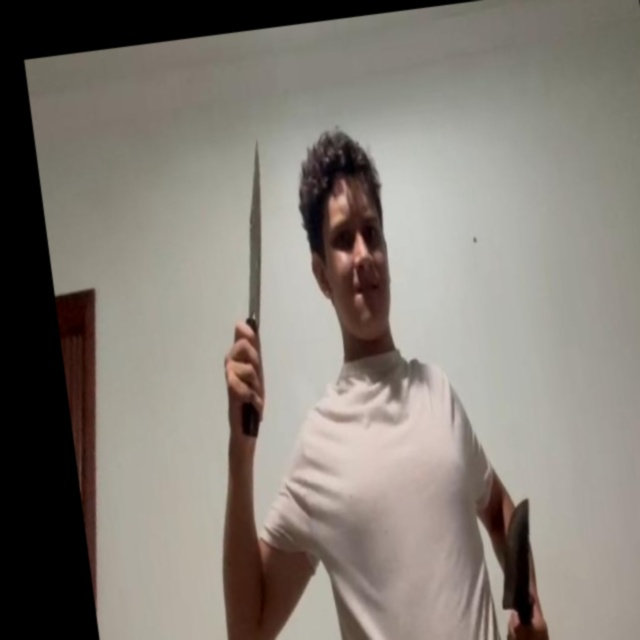Sharp-Object: (228, 139, 283, 324), (490, 496, 545, 612)
